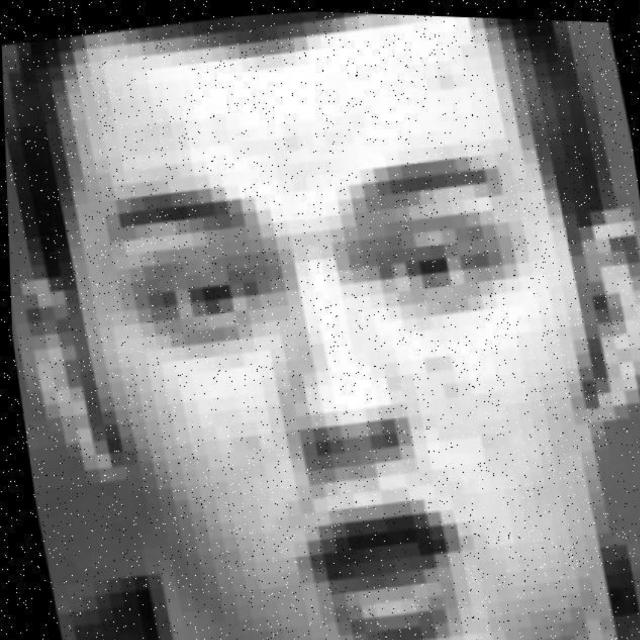Surprised: (56, 144, 640, 640)
